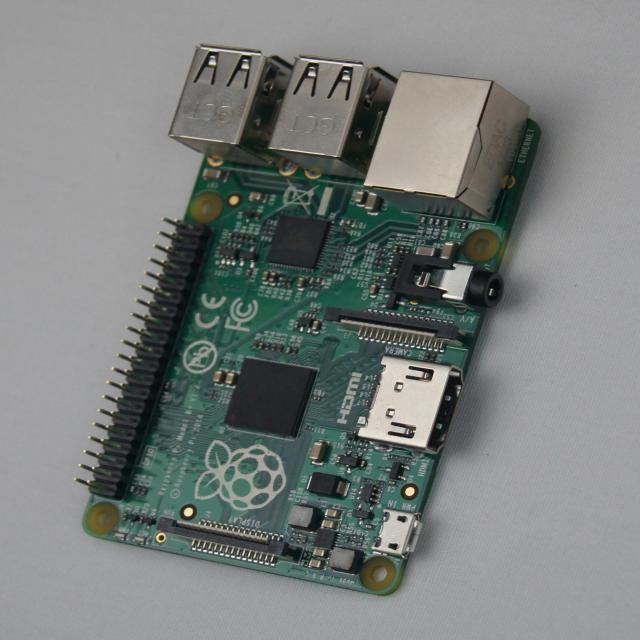Raspberry Pi 1 B-: (78, 46, 538, 595)
